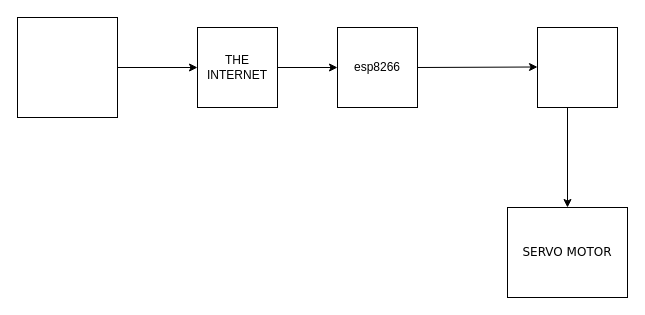
The diagram is 645 pixels wide and 315 high, and some of its shapes have lost their labels. The shapes that lost their labels are listed below. From the top down, each one's centre as x and y in pixels, then its label:
pixel 67 67: PC
pixel 577 67: ARDUINO
